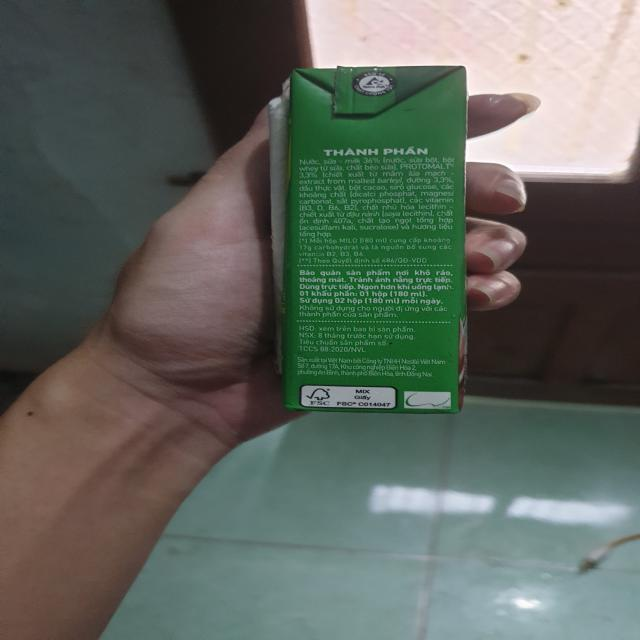Milo: (272, 65, 469, 423)
